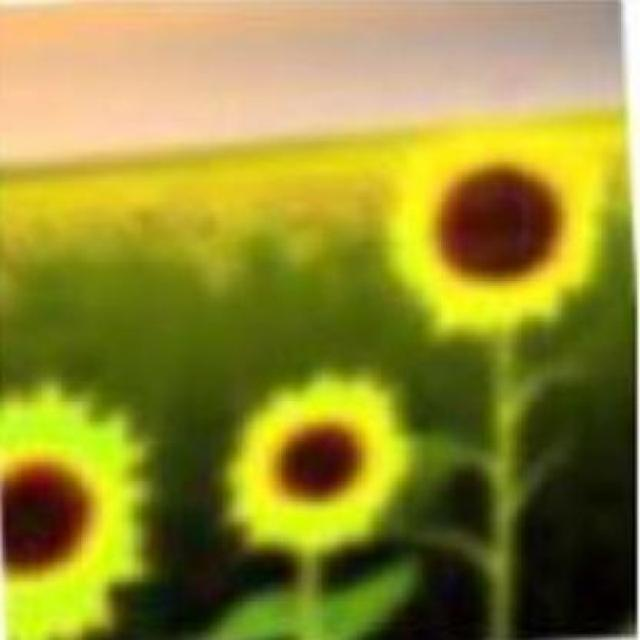sunflower: (384, 120, 610, 340), (221, 360, 409, 565), (0, 391, 142, 640)
